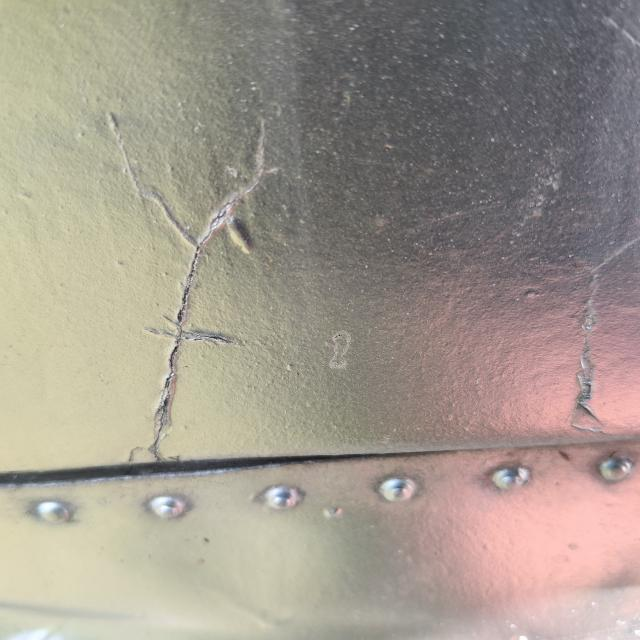crack: (118, 100, 293, 476)
